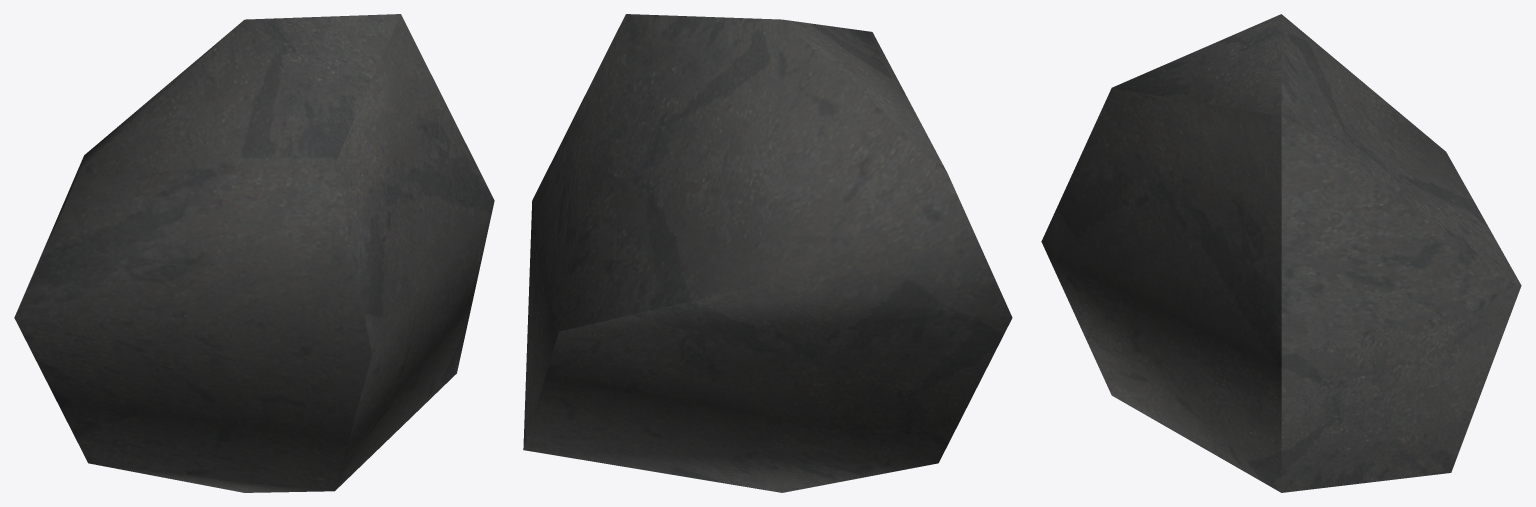
The model's file is misc_rock_tiny_1.dae.
3 renders of one model, left to right at view 1: azimuth 30°, elevation 25°; view 2: azimuth 150°, elevation 25°; view 3: azimuth 270°, elevation 25°, orthographic. The views are drawn at different scales.
Visible parts, largest first — view 1: rock_tiny1; view 2: rock_tiny1; view 3: rock_tiny1.
Boxes of the visible parts, <box> form: rock_tiny1: <box>14,14,494,492</box>; rock_tiny1: <box>523,14,1012,492</box>; rock_tiny1: <box>1041,14,1521,492</box>.
Size of what is drawn, in the model's own units: 0.3057 by 0.2879 by 0.2814.
